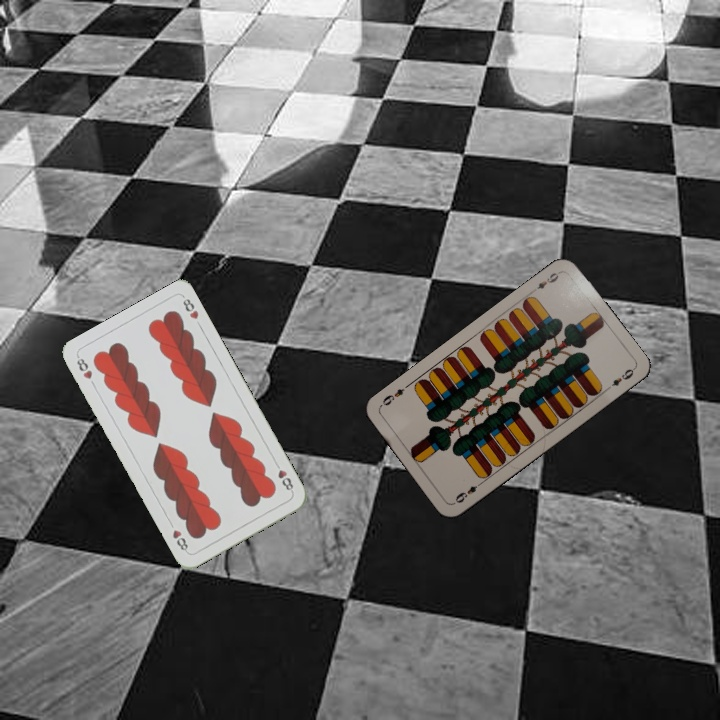E9: (528, 267, 564, 295), (451, 478, 486, 506)
H8: (271, 458, 296, 495), (73, 352, 95, 382)
